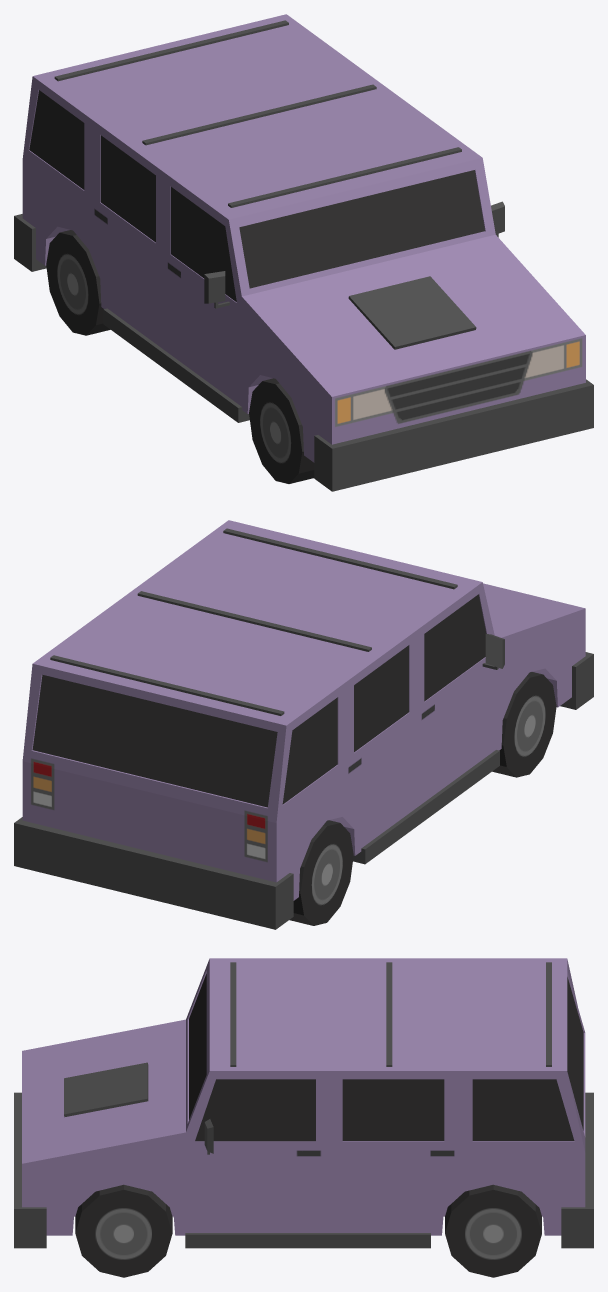
The model's file is vehicle-suv-color01.glb.
3 views of the same model, one above another, from view 1: azimuth 30°, elevation 25°; view 2: azimuth 150°, elevation 25°; view 3: azimuth 270°, elevation 25° (orthographic). The views are drawn at different scales.
Visible parts, largest first — view 1: model; view 2: model; view 3: model.
Part boxes in pixels (<box>): model: <box>14,14,593,491</box>; model: <box>14,520,593,929</box>; model: <box>14,958,593,1277</box>.
Bounding box in the file's own units: 3.1 × 2.27 × 5.73.
1 material, 1 textured.
